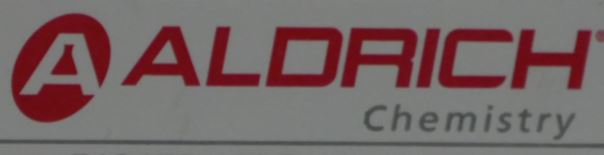SigmaAldrich: (9, 11, 604, 142)
